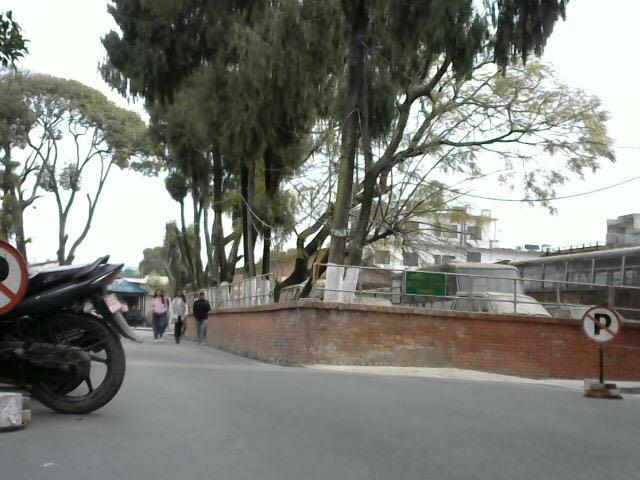Motorcycle: (25, 254, 129, 415)
Person: (145, 279, 169, 346), (168, 282, 191, 347), (194, 289, 215, 346)
Road: (0, 343, 640, 480)
Traffic sign: (574, 296, 626, 404)
Tree: (103, 0, 591, 189), (0, 10, 106, 227)
